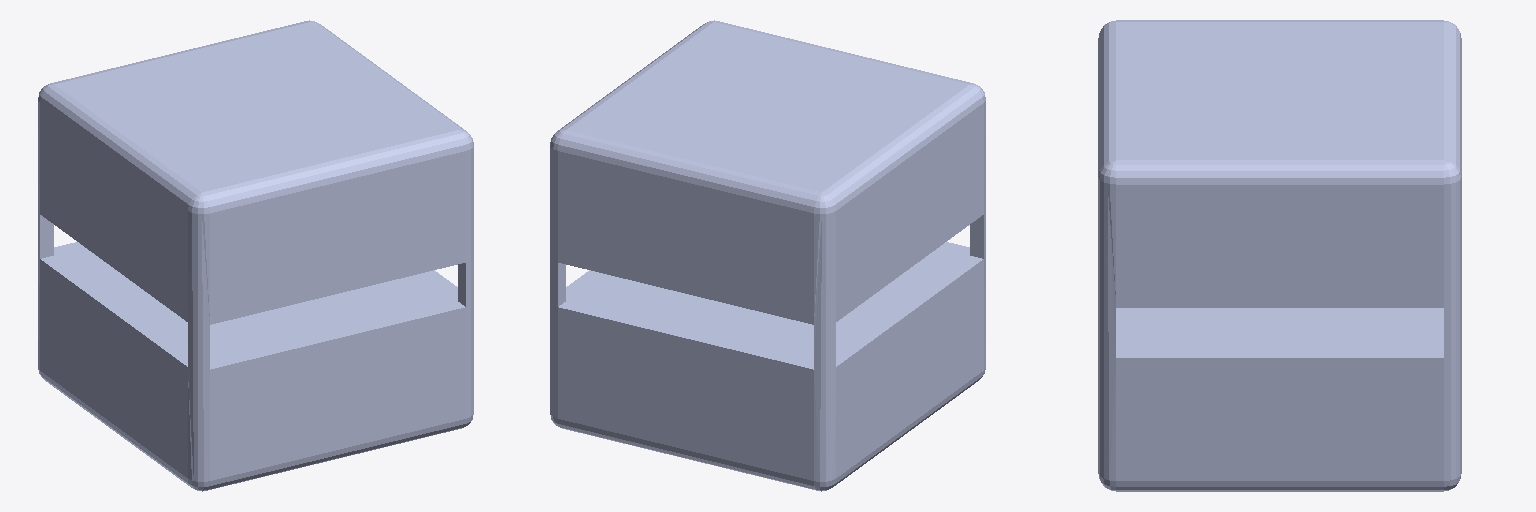
The robot description file, URDF, robot "Drone":
<?xml version="1.0" encoding="utf-8"?>
<!-- This URDF was automatically created by SolidWorks to URDF Exporter! Originally created by [author] ([email redacted]) 
     Commit Version: 1.5.1-0-g916b5db  Build Version: 1.5.7152.31018
     For more information, please see http://wiki.ros.org/sw_urdf_exporter -->
<robot
  name="Drone">
  <link
    name="Drone">
    <inertial>
      <origin
        xyz="0 0 0.1"
        rpy="0 0 0" />
      <mass
        value="0.0012" />
      <inertia
        ixx="0.048607"
        ixy="0"
        ixz="0"
        iyy="0.048607"
        iyz="0"
        izz="0.044805" />
    </inertial>
    <visual>
      <origin
        xyz="0 0 0"
        rpy="0 0 0" />
      <geometry>
        <mesh
          filename="model://modular_description/meshes/Drone.STL" />
      </geometry>
      <material
        name="">
        <color
          rgba="0.79216 0.81961 0.93333 1" />
        <texture
          filename="model://modular_description/textures/" />
      </material>
    </visual>
    <collision>
      <origin
        xyz="0 0 0"
        rpy="0 0 0" />
      <geometry>
        <mesh
          filename="model://modular_description/meshes/Drone.STL" />
      </geometry>
    </collision>
  </link>
</robot>

--- Render facts (derived) ---
3 views of the same robot in one strip: view 1: azimuth 30°, elevation 25°; view 2: azimuth 150°, elevation 25°; view 3: azimuth 270°, elevation 25° (orthographic).
Model Drone with 1 links and 0 joints (none), rooted at Drone, posed every joint at zero.
Links seen in each view (by area): view 1: Drone; view 2: Drone; view 3: Drone.
Link boxes in pixels (x1,y1,x2,y2): Drone: (38,20,473,491); Drone: (550,20,985,491); Drone: (1098,20,1461,491).
Size in the robot's own frame: 0.2 by 0.2 by 0.2 metres.
1 mesh visuals loaded from 1 distinct referenced files (1 binary STL).